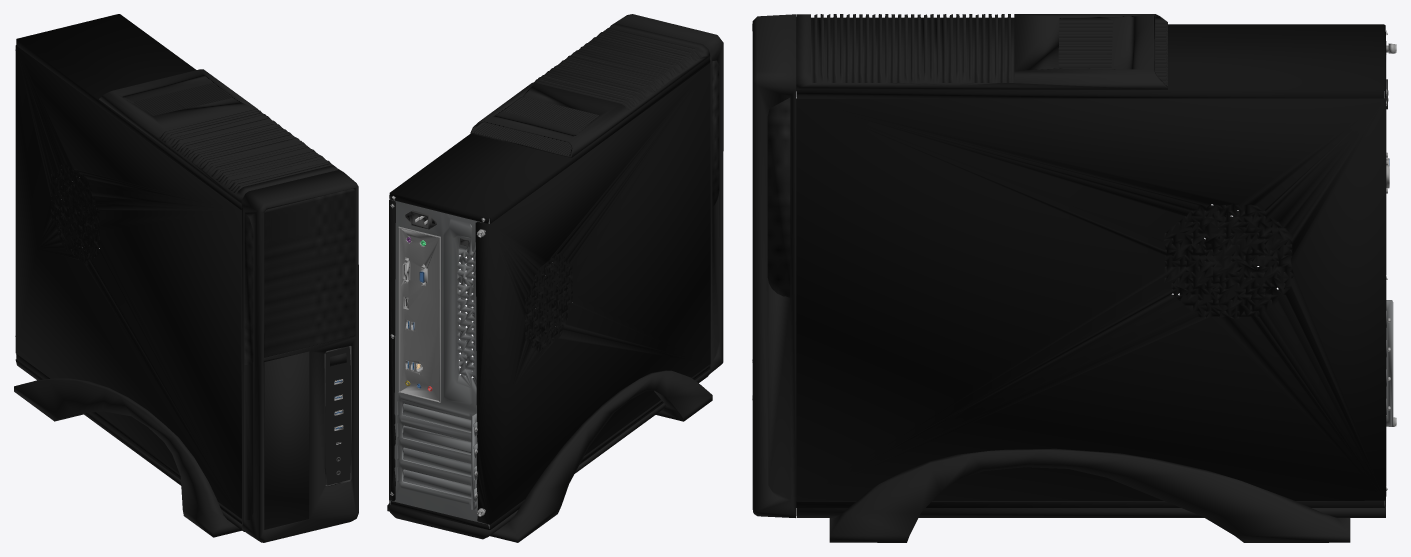
The model's file is tower.glb.
3 views of the same model, side by side, from view 1: azimuth 30°, elevation 25°; view 2: azimuth 150°, elevation 25°; view 3: azimuth 270°, elevation 25° (orthographic). The views are drawn at different scales.
Parts seen in each view (by area): view 1: sm_computer_desktop_tower_a01_01; view 2: sm_computer_desktop_tower_a01_01; view 3: sm_computer_desktop_tower_a01_01.
Boxes of the visible parts, x1,y1,x2,y2 form: sm_computer_desktop_tower_a01_01: (14, 14, 358, 542); sm_computer_desktop_tower_a01_01: (387, 14, 723, 542); sm_computer_desktop_tower_a01_01: (752, 14, 1396, 542).
Size of the model in its own units: 0.1958 by 0.4888 by 0.6234.
14 materials, 7 textured.
